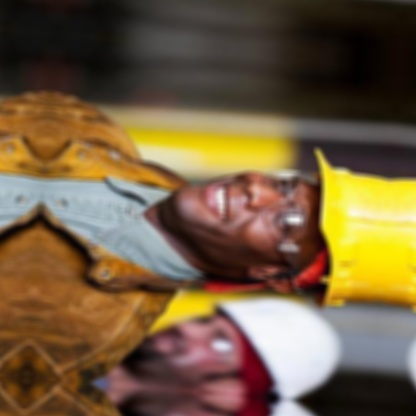yellow: (297, 145, 390, 321)
